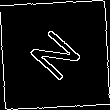N_SE: (23, 23, 87, 87)
